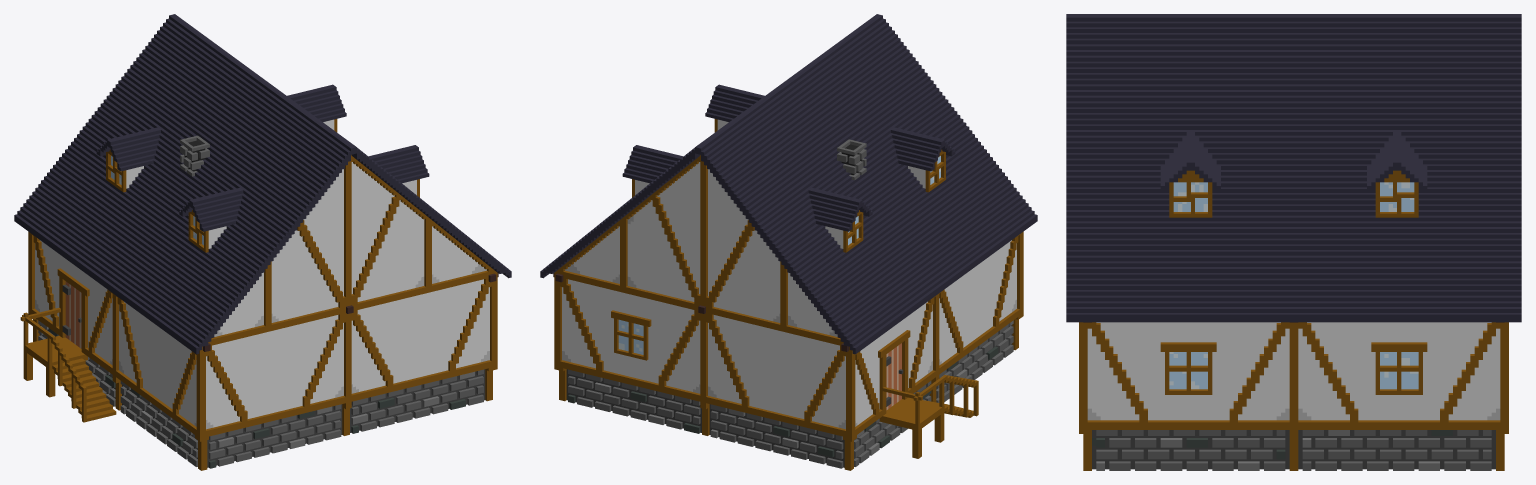
Rendered from Second House.obj.
3 renders of one model, left to right at view 1: azimuth 30°, elevation 25°; view 2: azimuth 150°, elevation 25°; view 3: azimuth 270°, elevation 25°, orthographic. The views are drawn at different scales.
Bounding box in the file's own units: 11.6 × 9.4 × 10.6.
1 material, 1 textured.
